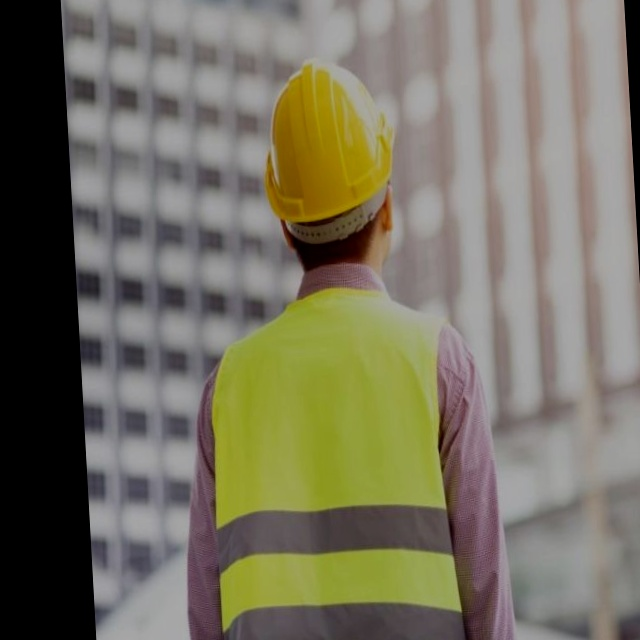Con_Casco: (256, 56, 405, 282)
Con_Chaleco: (207, 288, 469, 640)
